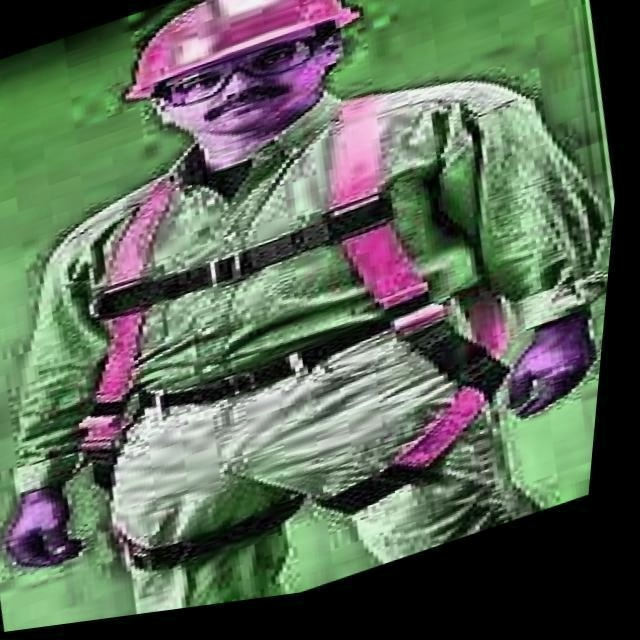safety belt: (74, 192, 521, 565)
